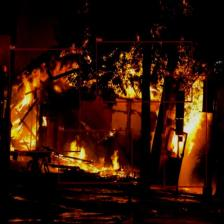fire: (10, 49, 80, 152), (96, 41, 192, 102), (163, 74, 206, 187), (58, 130, 132, 183)
